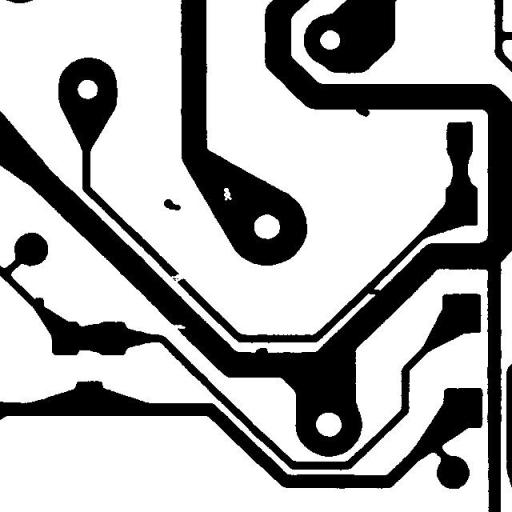copper: (156, 191, 188, 218)
mousebite: (162, 317, 193, 336)
open: (163, 266, 192, 290)
pin-hole: (216, 180, 239, 208)
short: (359, 281, 387, 302)
spur: (348, 98, 377, 124), (26, 290, 52, 315), (248, 340, 275, 362)
